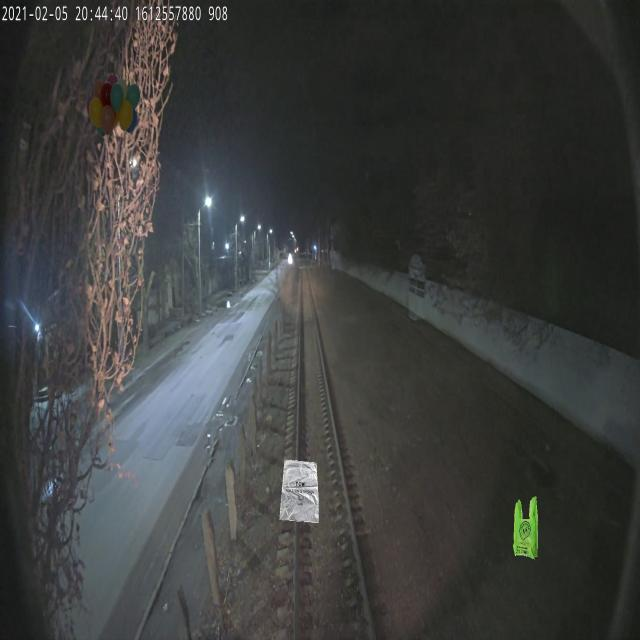balloon: (86, 73, 140, 137)
plastic bag: (279, 458, 319, 522), (512, 496, 538, 560)
